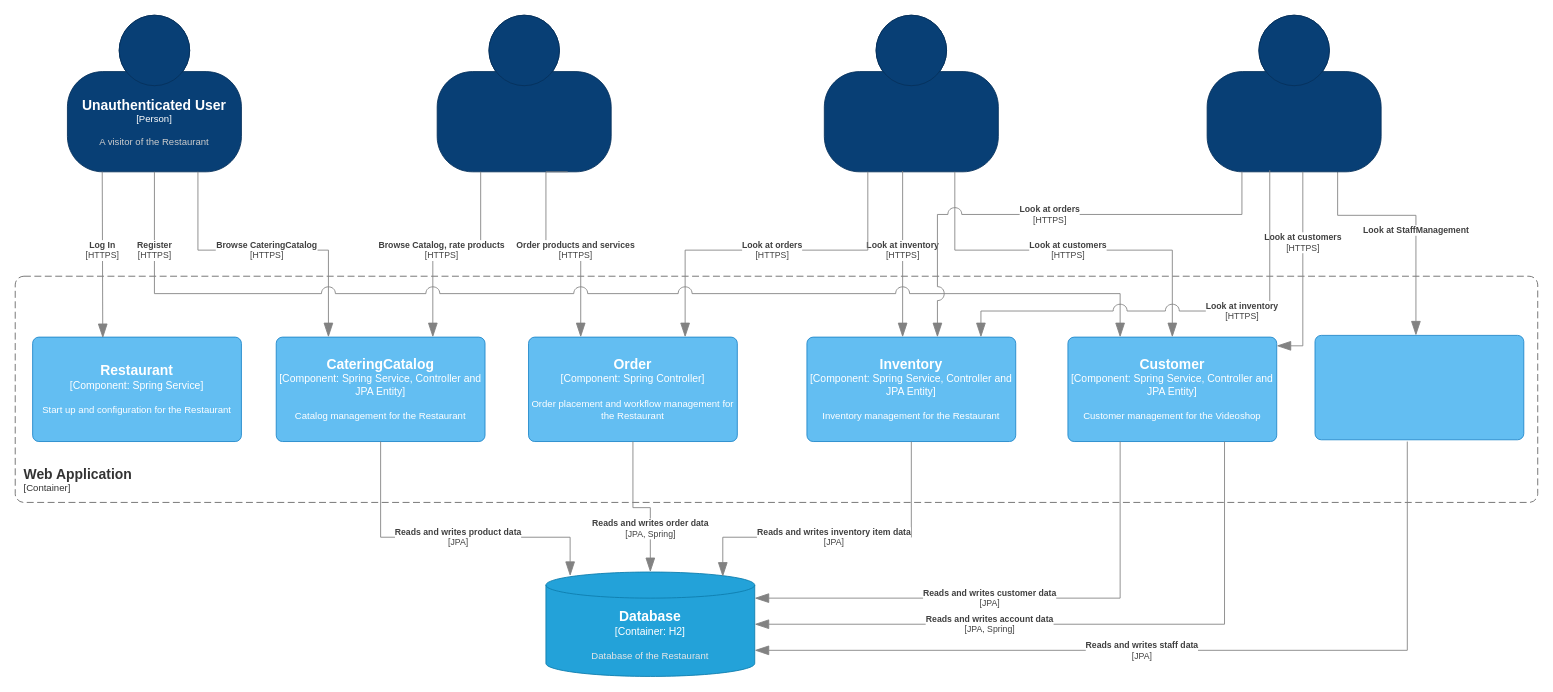
The diagram is 1553 pixels wide and 692 high, and some of its shapes have lost their labels. Each missing label, with the centre of its shape:
"Boss [Person] Administrator of the application" goes at (1293,93).
"Customer [Person] User, who is logged in an account" goes at (523,93).
"Staff [Person] Administrator of the application" goes at (910,93).
"StaffManagement [Component: Subsystem] Internal Personal Management" goes at (1419,387).
